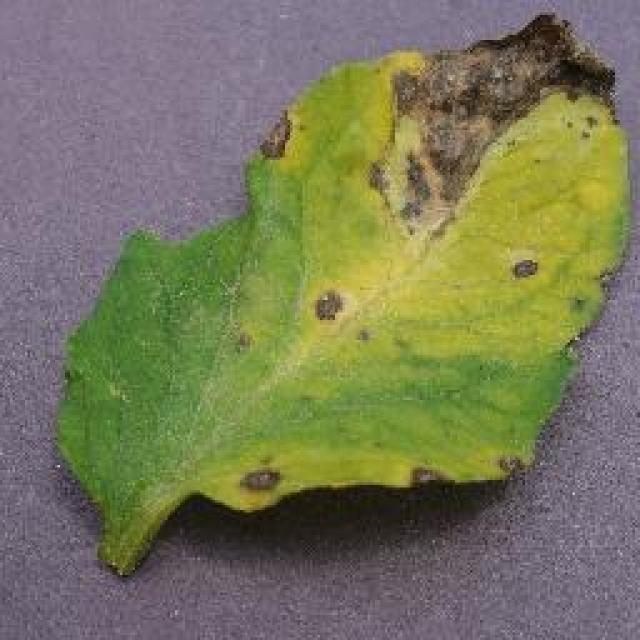Tomato target spot leaf: (55, 12, 633, 570)
